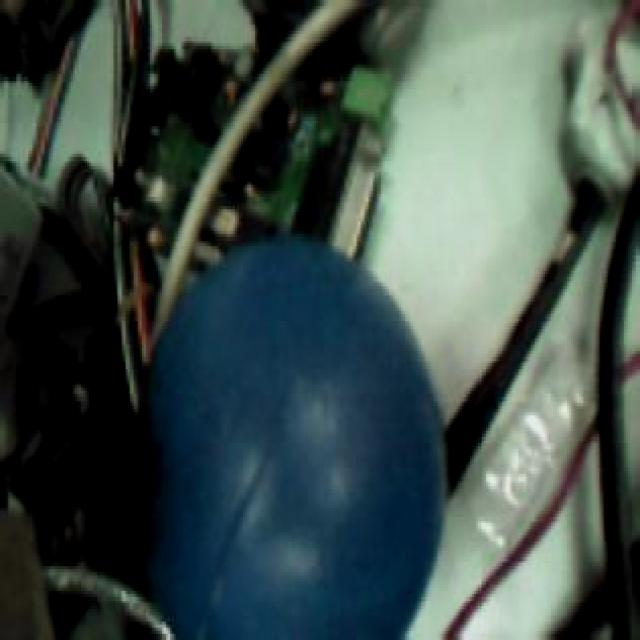BallPurple: (137, 240, 447, 640)
